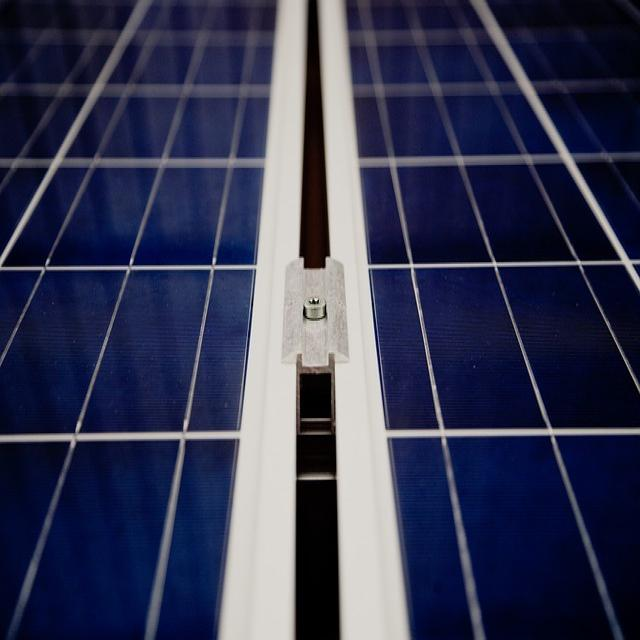clean-solar-panel: (348, 1, 640, 639), (0, 4, 275, 638)
